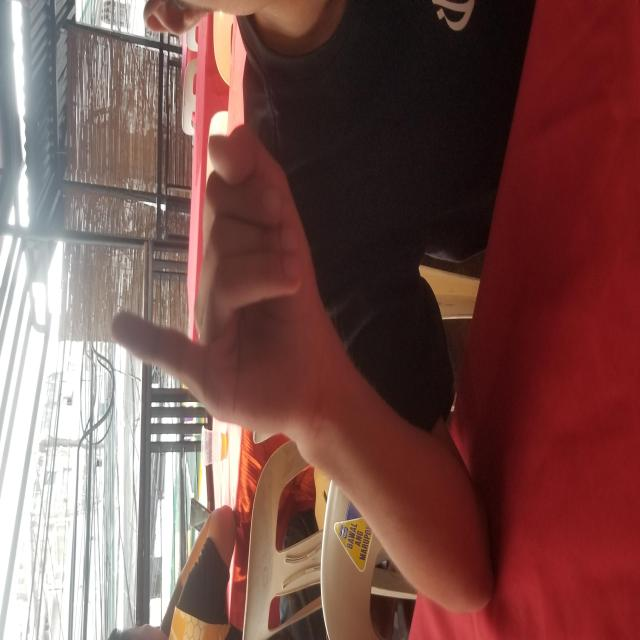I: (204, 109, 521, 332)
